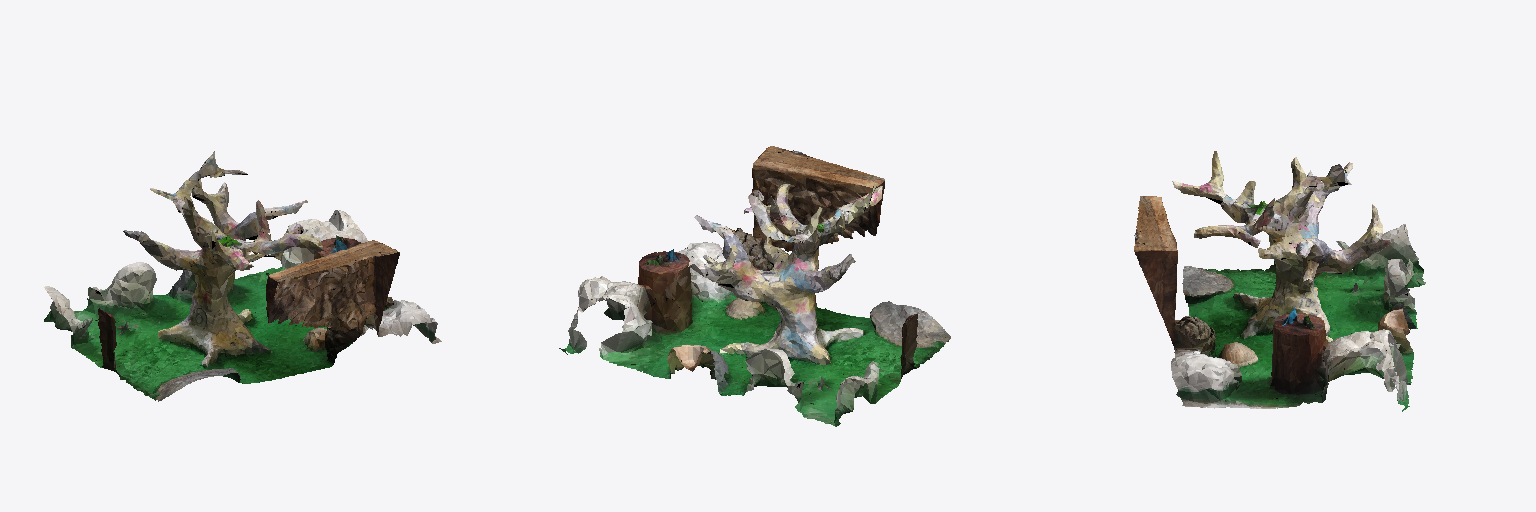
The picture shows the model from 3 angles: view 1: azimuth 30°, elevation 25°; view 2: azimuth 150°, elevation 25°; view 3: azimuth 270°, elevation 25°; orthographic projection.
Visible parts, largest first — view 1: TexturedMesh; view 2: TexturedMesh; view 3: TexturedMesh.
Boxes of the visible parts, x1=… form: TexturedMesh: x1=44, y1=151, x2=441, y2=401; TexturedMesh: x1=559, y1=146, x2=950, y2=426; TexturedMesh: x1=1134, y1=151, x2=1425, y2=411.
Bounding box in the file's own units: 1.11 × 0.6119 × 0.9369.
Materials: 5 (5 with a texture image).